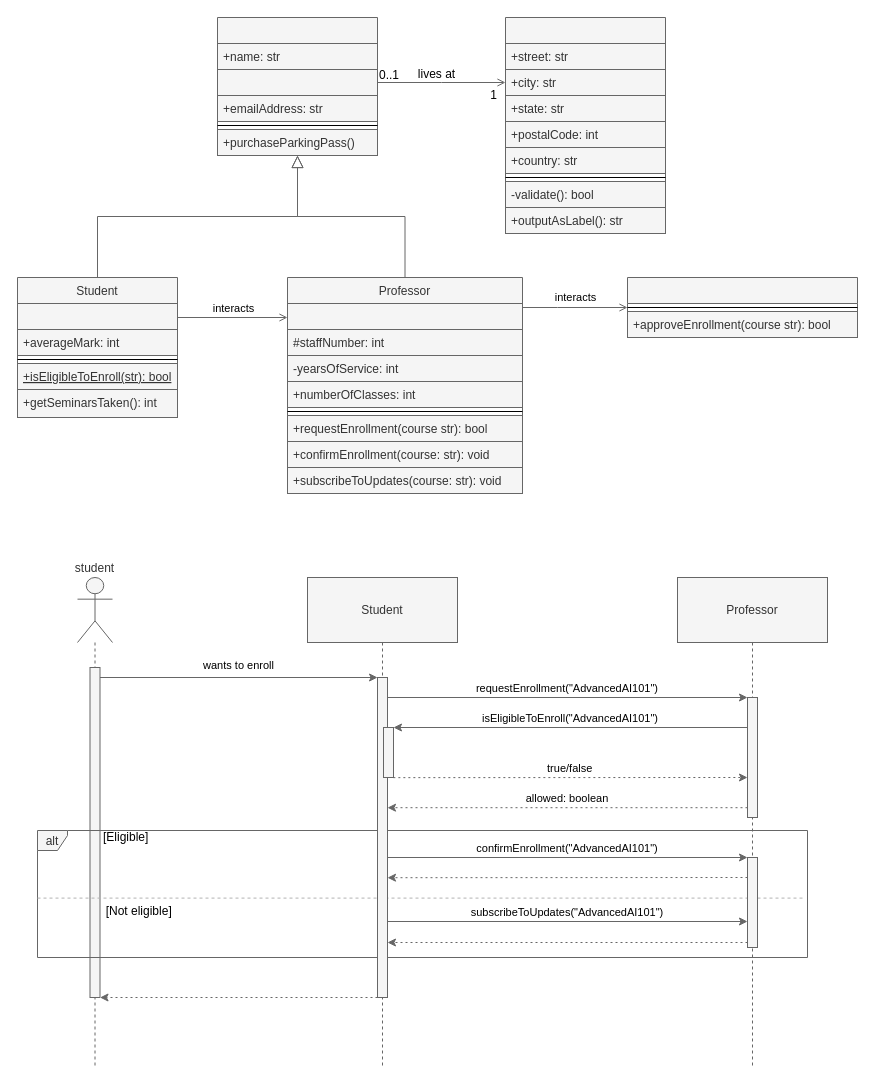
Some shapes in this 875 by 1085 pixel diagram are drawn without their labels. The box of each missing label's shape, as (x1, y1, x2, y2) in pixels:
+phoneNumber: str: (216, 68, 378, 96)
+studentNumber: int: (16, 302, 178, 330)
/salary: int: (286, 302, 522, 330)
Address: (504, 16, 666, 234)
Person: (216, 16, 378, 156)
System: (626, 276, 858, 338)
